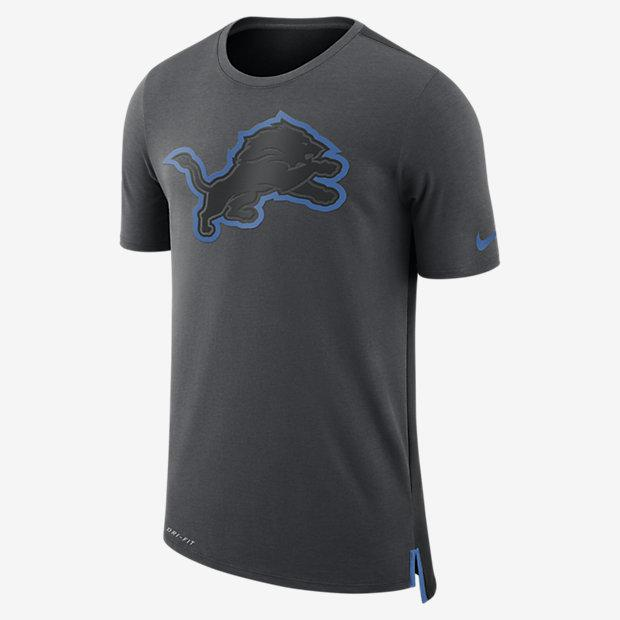teeshirt: (107, 15, 521, 618)
